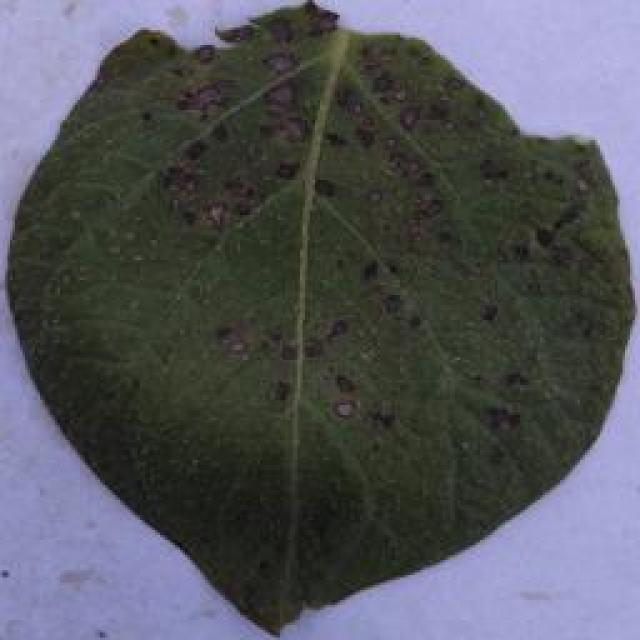Potato_Early_Blight: (4, 8, 637, 640), (459, 3, 640, 114)
